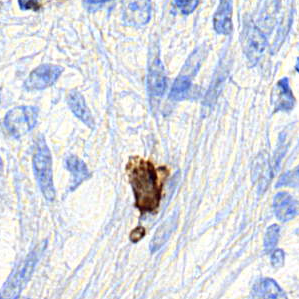Lymphocyte: (125, 155, 168, 217)
